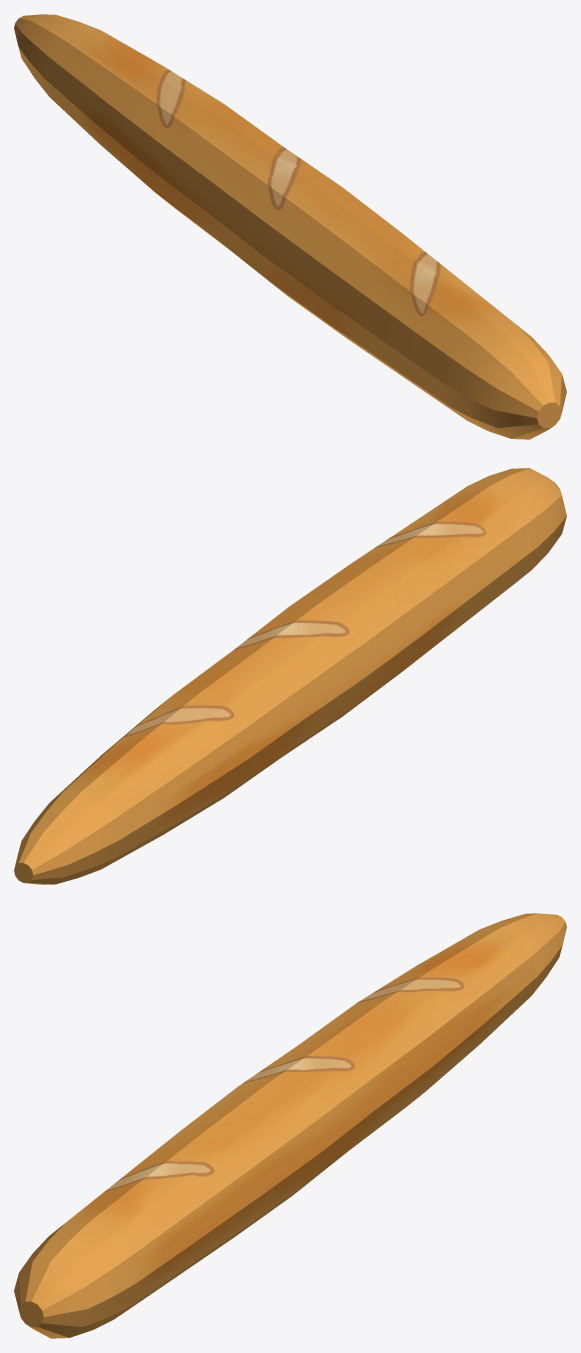
The model's file is Bread.fbx.
3 renders of one model, top to bottom at view 1: azimuth 30°, elevation 25°; view 2: azimuth 150°, elevation 25°; view 3: azimuth 330°, elevation 25°, orthographic.
Visible parts, largest first — view 1: Pickle; view 2: Pickle; view 3: Pickle.
Boxes of the visible parts, box(x1,y1,x2,y2) form: Pickle: box(14, 14, 566, 439); Pickle: box(14, 468, 566, 884); Pickle: box(14, 913, 566, 1338).
Size of the model in its own units: 0.317 by 0.317 by 2.7.
Materials: 1 (1 with a texture image).
